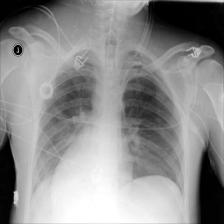normal: (25, 43, 188, 204)
